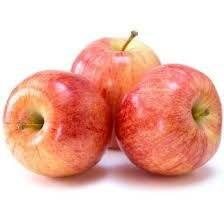Apple: (117, 64, 224, 176), (4, 70, 110, 177)
